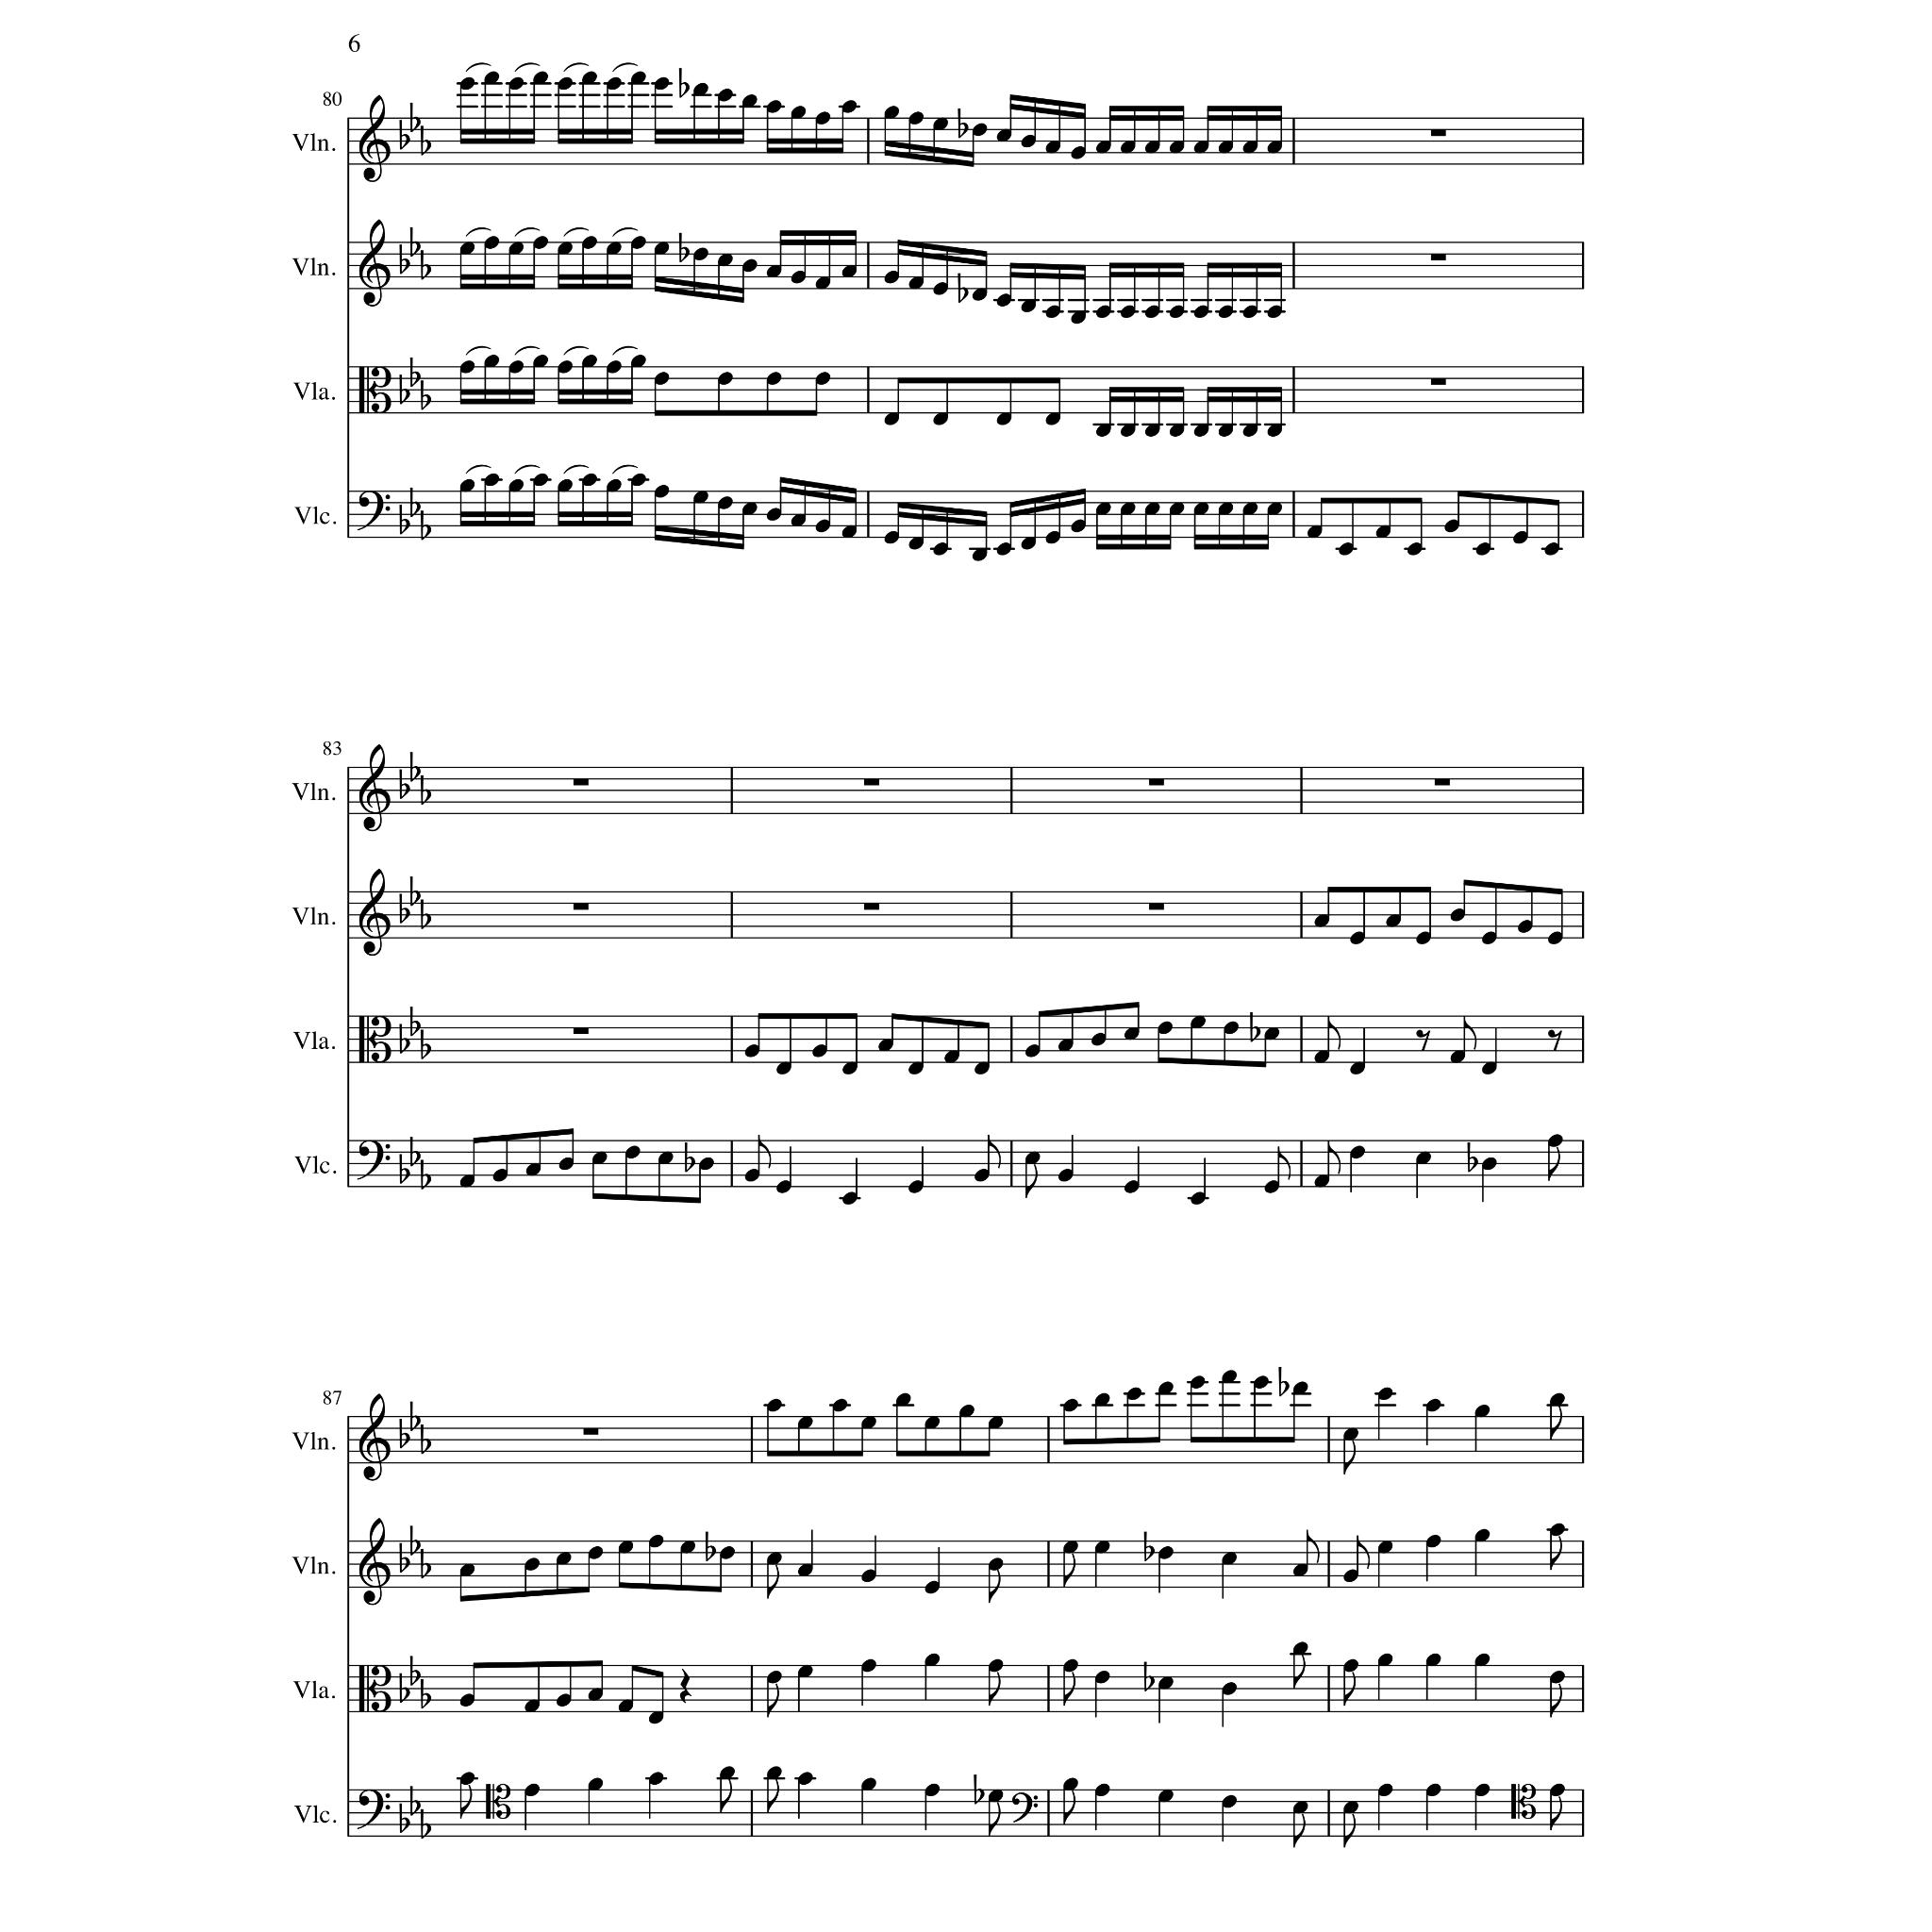fClef: (357, 491, 391, 532), (357, 1140, 391, 1181), (357, 1789, 391, 1830)
flag8thDown: (1024, 1164, 1038, 1198), (1292, 1655, 1306, 1689), (1292, 1813, 1306, 1847), (1343, 1672, 1357, 1706), (1343, 1813, 1357, 1847), (1343, 1441, 1357, 1474), (768, 1564, 779, 1600), (1549, 1147, 1560, 1181), (1064, 1672, 1075, 1706), (1064, 1790, 1075, 1824), (1064, 1553, 1075, 1587), (1551, 1406, 1562, 1440), (1551, 1536, 1562, 1570), (1551, 1683, 1562, 1717), (1551, 1796, 1562, 1830), (721, 1779, 732, 1813), (460, 1785, 472, 1819), (989, 1569, 1000, 1603), (989, 1672, 1000, 1706), (989, 1802, 1000, 1836), (768, 1683, 779, 1717), (768, 1779, 779, 1813)
flag8thUp: (1327, 1016, 1341, 1050), (1277, 1146, 1291, 1180), (1327, 1141, 1341, 1174), (1463, 1016, 1476, 1050), (758, 1135, 772, 1169), (988, 1135, 1001, 1169), (1307, 1530, 1320, 1564), (1357, 1536, 1370, 1570)
gClef: (358, 94, 391, 183), (358, 219, 391, 308), (358, 868, 391, 957), (358, 743, 391, 832), (358, 1517, 391, 1606), (358, 1393, 391, 1482)
noteheadBlack: (1070, 519, 1087, 534), (932, 281, 949, 296), (1511, 530, 1528, 545), (1443, 519, 1460, 534), (653, 372, 670, 387), (883, 106, 900, 121), (883, 530, 900, 545), (717, 253, 734, 268), (717, 372, 734, 387), (1313, 913, 1330, 928), (1385, 913, 1402, 928), (743, 1043, 760, 1058), (525, 1162, 541, 1177), (1024, 1043, 1041, 1058), (811, 1043, 828, 1058), (1221, 1794, 1238, 1809), (1062, 1398, 1079, 1413), (1424, 1398, 1441, 1413), (766, 1398, 783, 1413), (1045, 530, 1060, 545), (1021, 134, 1036, 149), (791, 106, 806, 121), (815, 372, 830, 387), (815, 519, 830, 534), (766, 372, 781, 387), (1191, 1191, 1206, 1206), (841, 1191, 857, 1206), (1158, 1675, 1174, 1690), (525, 1557, 540, 1572), (988, 1557, 1003, 1572), (832, 1398, 847, 1413), (1119, 141, 1136, 154), (1119, 306, 1136, 319), (1119, 424, 1136, 437), (1119, 502, 1136, 515), (1070, 146, 1087, 159), (1070, 311, 1087, 325), (1094, 141, 1111, 154), (1094, 306, 1111, 319), (1094, 424, 1111, 437), (1094, 502, 1111, 515), (1168, 141, 1185, 154), (1168, 306, 1185, 319), (1168, 424, 1185, 437), (1168, 502, 1185, 515), (1143, 141, 1160, 154), (1143, 306, 1160, 319), (1143, 424, 1160, 437), (1143, 502, 1160, 515), (932, 118, 949, 131), (932, 412, 949, 425), (932, 542, 949, 556), (1543, 542, 1560, 556), (1338, 542, 1355, 556), (1217, 306, 1234, 319), (1217, 424, 1234, 437), (1217, 502, 1234, 515), (1217, 141, 1234, 154), (1241, 141, 1258, 154), (1241, 306, 1258, 319), (1241, 424, 1258, 437), (1241, 502, 1258, 515), (1192, 141, 1209, 154), (1192, 306, 1209, 319), (1192, 424, 1209, 437), (1192, 502, 1209, 515), (1266, 141, 1283, 154), (1266, 306, 1283, 319), (1266, 424, 1283, 437), (1266, 502, 1283, 515), (581, 72, 598, 85), (581, 236, 598, 249), (581, 355, 598, 368), (581, 474, 598, 487), (557, 77, 574, 91), (557, 242, 574, 256), (557, 361, 574, 375), (557, 479, 574, 492), (653, 77, 670, 91), (653, 242, 670, 256), (653, 485, 670, 498), (606, 77, 623, 91), (606, 242, 623, 256), (606, 361, 623, 375), (606, 479, 623, 492), (458, 77, 475, 91), (458, 242, 475, 256), (458, 361, 475, 375), (458, 479, 475, 492), (508, 479, 525, 492), (508, 361, 525, 375), (532, 72, 549, 85), (532, 236, 549, 249), (532, 355, 549, 368), (532, 474, 549, 487), (483, 72, 500, 85), (483, 236, 500, 249), (483, 355, 500, 368), (483, 474, 500, 487), (508, 77, 525, 91), (508, 242, 525, 256), (908, 112, 924, 125), (908, 276, 924, 290), (908, 537, 924, 550), (883, 271, 900, 284), (883, 412, 900, 425), (717, 89, 734, 102), (717, 496, 734, 509), (692, 83, 709, 96), (692, 248, 709, 261), (692, 491, 709, 504), (1313, 1174, 1330, 1188), (1313, 1050, 1330, 1063), (1349, 1062, 1366, 1075), (1349, 932, 1366, 945), (1349, 1145, 1366, 1158), (1057, 1169, 1074, 1182), (1157, 1022, 1174, 1035), (1123, 1180, 1140, 1193), (1123, 1027, 1140, 1041), (1091, 1033, 1108, 1046), (1223, 1022, 1240, 1035), (1517, 920, 1534, 933), (1415, 932, 1432, 945), (1415, 1152, 1432, 1165), (1449, 1050, 1466, 1063), (1449, 908, 1466, 922), (1057, 1039, 1074, 1052), (743, 1169, 760, 1182), (458, 1174, 475, 1188), (974, 1062, 991, 1075), (1024, 1152, 1041, 1165), (974, 1169, 991, 1182), (877, 1039, 894, 1052), (775, 1180, 792, 1193), (775, 1062, 792, 1075), (1221, 1370, 1238, 1383), (1221, 1552, 1238, 1565), (1221, 1682, 1238, 1695), (1062, 1541, 1079, 1554), (1062, 1659, 1079, 1673), (1062, 1777, 1079, 1790), (1474, 1405, 1491, 1418), (1474, 1529, 1491, 1542), (1474, 1654, 1491, 1667), (1474, 1784, 1491, 1797), (1424, 1535, 1441, 1548), (1424, 1654, 1441, 1667), (1424, 1784, 1441, 1797), (617, 1541, 634, 1554), (617, 1699, 634, 1712), (647, 1535, 664, 1548), (647, 1711, 664, 1724), (647, 1772, 664, 1785), (719, 1546, 736, 1559), (719, 1766, 736, 1779), (766, 1552, 783, 1565), (679, 1541, 696, 1554), (458, 1563, 475, 1576), (458, 1693, 475, 1707), (458, 1772, 475, 1785), (860, 1416, 877, 1429), (860, 1569, 877, 1582), (860, 1659, 877, 1673), (860, 1777, 877, 1790), (958, 1405, 975, 1418), (766, 1766, 783, 1779), (766, 1671, 783, 1684), (796, 1416, 813, 1429), (796, 1772, 813, 1785), (796, 1665, 813, 1678), (796, 1563, 813, 1576), (972, 124, 987, 137), (972, 288, 987, 301), (972, 549, 987, 562), (996, 129, 1011, 142), (996, 293, 1011, 307), (996, 412, 1011, 425), (996, 542, 1011, 556), (1045, 141, 1060, 154), (1045, 306, 1060, 319), (1045, 412, 1060, 425), (1021, 300, 1036, 313), (1021, 537, 1036, 550), (1475, 542, 1491, 556), (1375, 525, 1391, 539), (1407, 542, 1423, 556), (1307, 525, 1323, 539), (630, 355, 645, 368), (630, 474, 645, 487), (630, 236, 645, 249), (630, 72, 645, 85), (841, 100, 857, 113), (841, 265, 857, 278), (841, 525, 857, 539), (791, 271, 806, 284), (791, 514, 806, 527), (815, 112, 830, 125), (815, 276, 830, 290), (766, 508, 781, 522), (766, 100, 781, 113), (766, 265, 781, 278), (741, 502, 757, 515), (741, 94, 757, 108), (741, 259, 757, 273), (1264, 1180, 1279, 1193), (1264, 1027, 1279, 1041), (1191, 1015, 1206, 1028), (1547, 1134, 1562, 1147), (1547, 932, 1562, 945), (1482, 1062, 1497, 1075), (1482, 1158, 1497, 1171), (1482, 932, 1497, 945), (698, 1158, 713, 1171), (658, 1152, 674, 1165), (625, 1145, 640, 1158), (592, 1152, 608, 1165), (558, 1158, 574, 1171), (492, 1169, 508, 1182), (943, 1050, 958, 1063), (908, 1180, 923, 1193), (908, 1062, 923, 1075), (841, 1062, 857, 1075), (1190, 1375, 1205, 1389), (1292, 1801, 1307, 1814), (1253, 1375, 1268, 1389), (1292, 1381, 1307, 1394), (1292, 1563, 1307, 1576), (1292, 1641, 1307, 1655), (1126, 1388, 1141, 1401), (1158, 1381, 1174, 1394), (1158, 1546, 1174, 1559), (1158, 1790, 1174, 1803), (1094, 1393, 1109, 1407), (1094, 1541, 1109, 1554), (1094, 1671, 1109, 1684), (1094, 1784, 1109, 1797), (1549, 1393, 1564, 1407), (1549, 1524, 1564, 1537), (1549, 1671, 1564, 1684), (1549, 1784, 1564, 1797), (1343, 1428, 1358, 1441), (1343, 1569, 1358, 1582), (1343, 1659, 1358, 1673), (1343, 1801, 1358, 1814), (1377, 1388, 1392, 1401), (1377, 1541, 1392, 1554), (1377, 1654, 1392, 1667), (1377, 1784, 1392, 1797), (588, 1777, 603, 1790), (588, 1546, 603, 1559), (588, 1688, 603, 1701), (557, 1552, 572, 1565), (557, 1693, 572, 1707), (525, 1699, 540, 1712), (525, 1784, 540, 1797), (924, 1581, 940, 1594), (896, 1393, 911, 1407), (924, 1416, 940, 1429), (924, 1654, 940, 1667), (924, 1784, 940, 1797), (988, 1416, 1003, 1429), (988, 1659, 1003, 1673), (988, 1790, 1003, 1803)
rest8th: (1547, 1029, 1562, 1052), (1415, 1029, 1430, 1052)
restQuarter: (679, 1668, 692, 1704)
restWhole: (572, 1027, 589, 1035), (572, 903, 589, 910), (572, 778, 589, 786), (1430, 129, 1445, 137), (1430, 254, 1445, 261), (1430, 378, 1445, 386), (864, 778, 879, 786), (864, 903, 879, 910), (1149, 778, 1164, 786), (1149, 903, 1164, 910), (1434, 778, 1449, 786), (583, 1428, 598, 1436)
